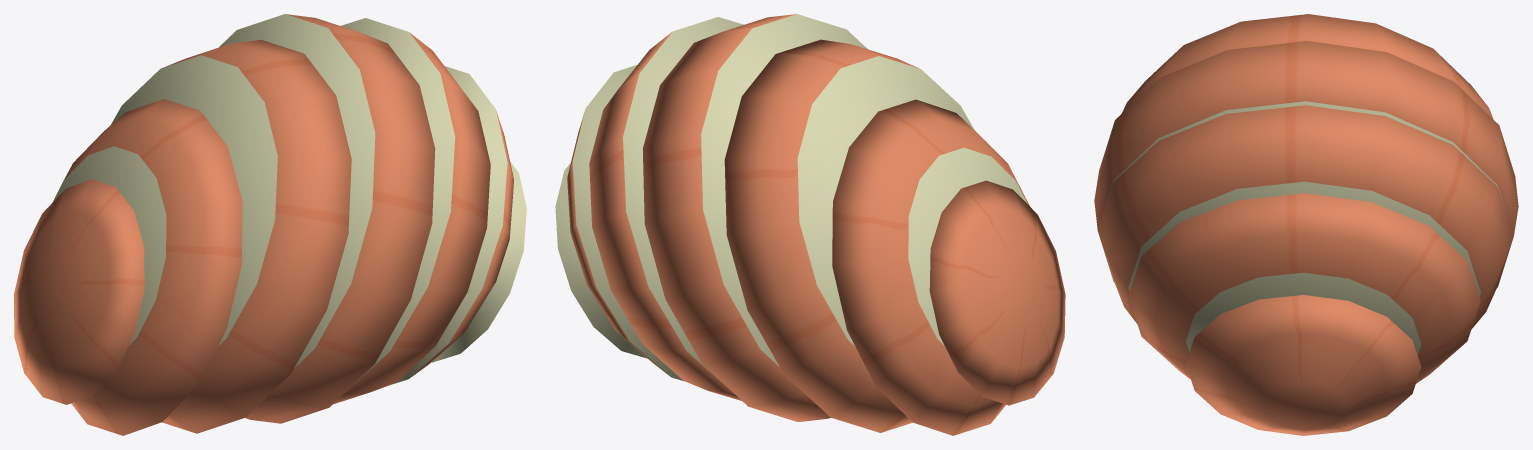
The model's file is onionSliced.fbx.
The picture shows the model from 3 angles, left to right: view 1: azimuth 30°, elevation 25°; view 2: azimuth 150°, elevation 25°; view 3: azimuth 270°, elevation 25°; orthographic projection. The views are drawn at different scales.
Visible parts, largest first — view 1: Cylinder.003, Cylinder.001, Cylinder.004, Cylinder.000, Cylinder.005, Cylinder.006, Cylinder.002; view 2: Cylinder.003, Cylinder.001, Cylinder.004, Cylinder.000, Cylinder.005, Cylinder.006, Cylinder.002; view 3: Cylinder.005, Cylinder.006, Cylinder.004, Cylinder.002, Cylinder.003.
Part boxes in pixels (bbox=[...]): Cylinder.003: bbox=[111, 39, 351, 433]; Cylinder.001: bbox=[53, 99, 242, 435]; Cylinder.004: bbox=[219, 14, 435, 423]; Cylinder.000: bbox=[14, 179, 144, 404]; Cylinder.005: bbox=[333, 18, 490, 404]; Cylinder.006: bbox=[392, 66, 513, 384]; Cylinder.002: bbox=[432, 161, 526, 362]; Cylinder.003: bbox=[724, 39, 973, 432]; Cylinder.001: bbox=[832, 99, 1029, 435]; Cylinder.004: bbox=[642, 14, 867, 421]; Cylinder.000: bbox=[929, 180, 1065, 405]; Cylinder.005: bbox=[589, 17, 743, 400]; Cylinder.006: bbox=[567, 65, 683, 380]; Cylinder.002: bbox=[555, 162, 646, 358]; Cylinder.005: bbox=[1097, 105, 1513, 329]; Cylinder.006: bbox=[1128, 193, 1480, 383]; Cylinder.004: bbox=[1094, 41, 1518, 287]; Cylinder.002: bbox=[1185, 295, 1421, 435]; Cylinder.003: bbox=[1122, 14, 1493, 119].
Size of the model in its own units: 59.26 by 43.42 by 44.99.
